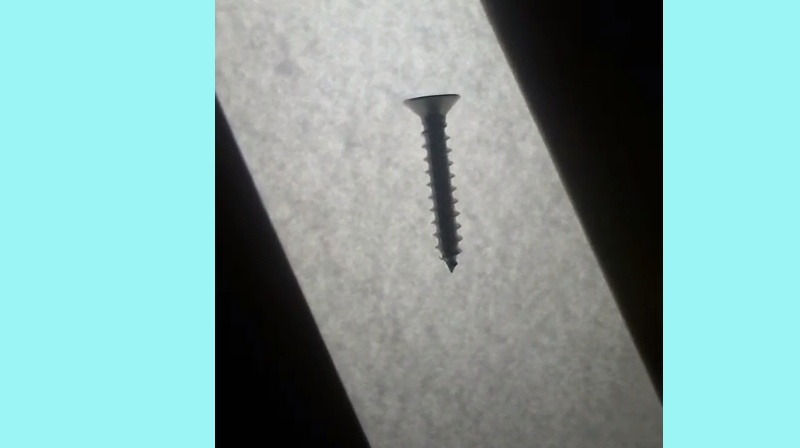S001: (400, 90, 463, 279)
